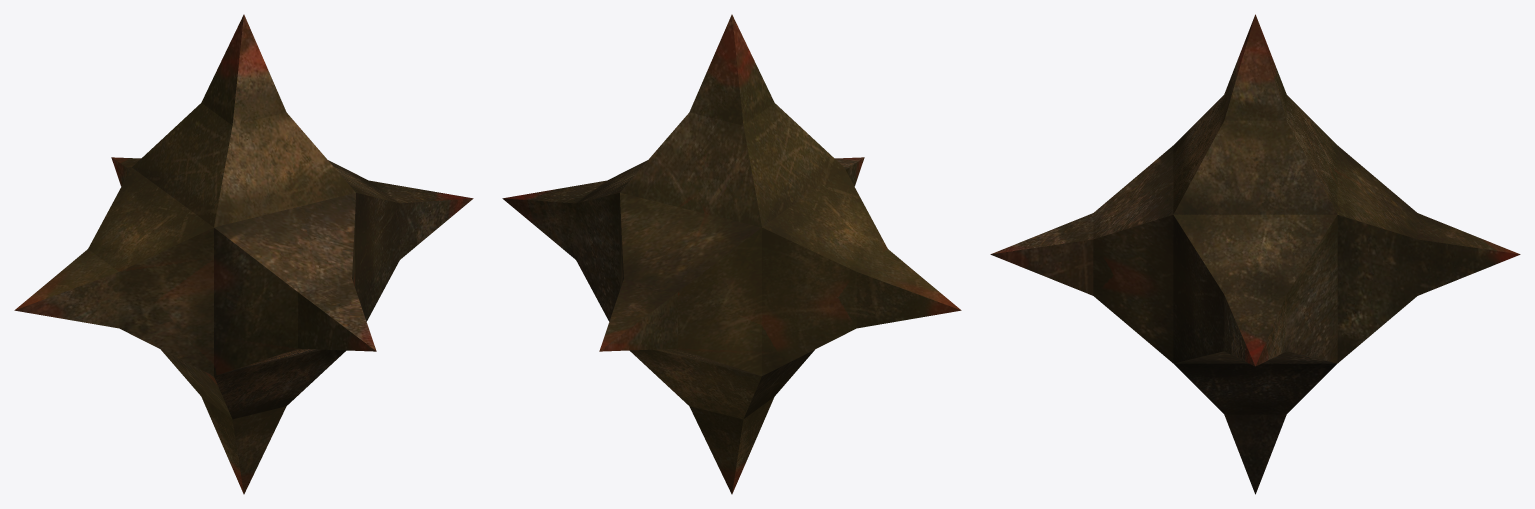
Rendered from pinche.fbx.
3 views of the same model, side by side, from view 1: azimuth 30°, elevation 25°; view 2: azimuth 150°, elevation 25°; view 3: azimuth 270°, elevation 25° (orthographic).
Parts seen in each view (by area): view 1: Cube; view 2: Cube; view 3: Cube.
Part boxes in pixels (x1,y1,x2,y2): Cube: (14,14,473,494); Cube: (502,14,961,494); Cube: (990,14,1520,494).
Bounding box in the file's own units: 646 × 646 × 646.
1 material, 1 textured.
